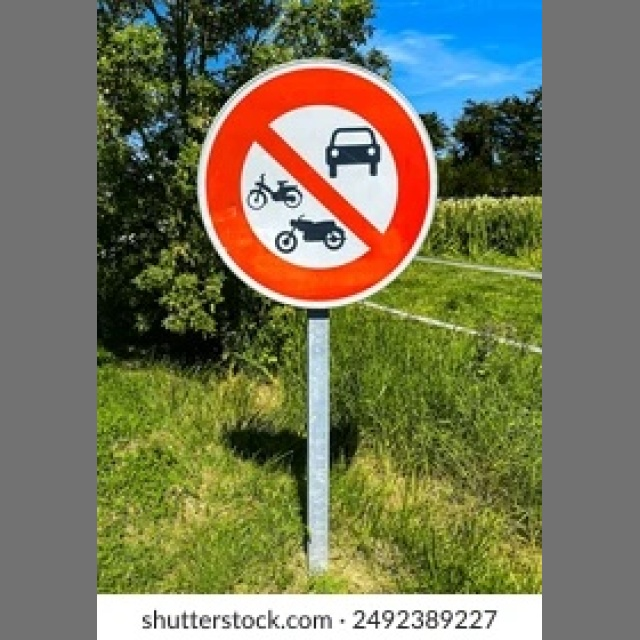All_Motor_Vehicles_Prohibited: (197, 60, 435, 310)
